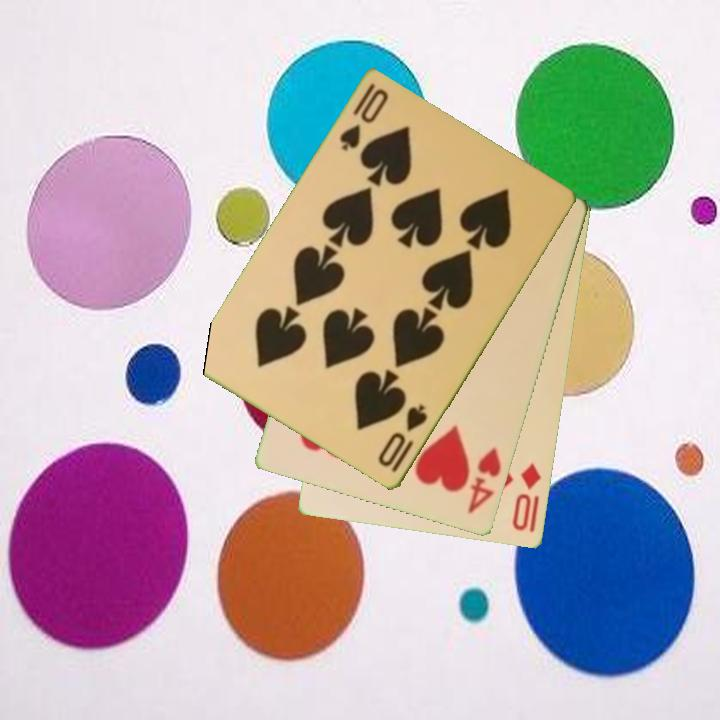10d: (509, 460, 544, 534)
10s: (374, 401, 431, 477), (336, 80, 392, 154)
4h: (464, 444, 505, 518)
